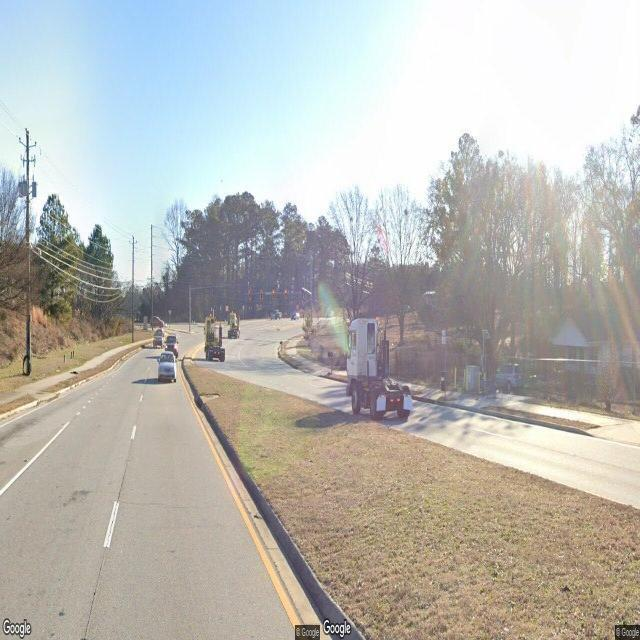trash_can: (440, 372, 448, 391)
